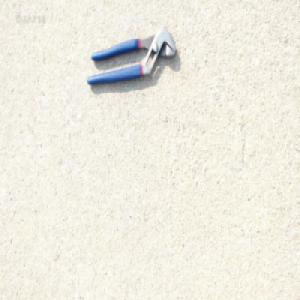Pliers: (85, 25, 176, 85)
